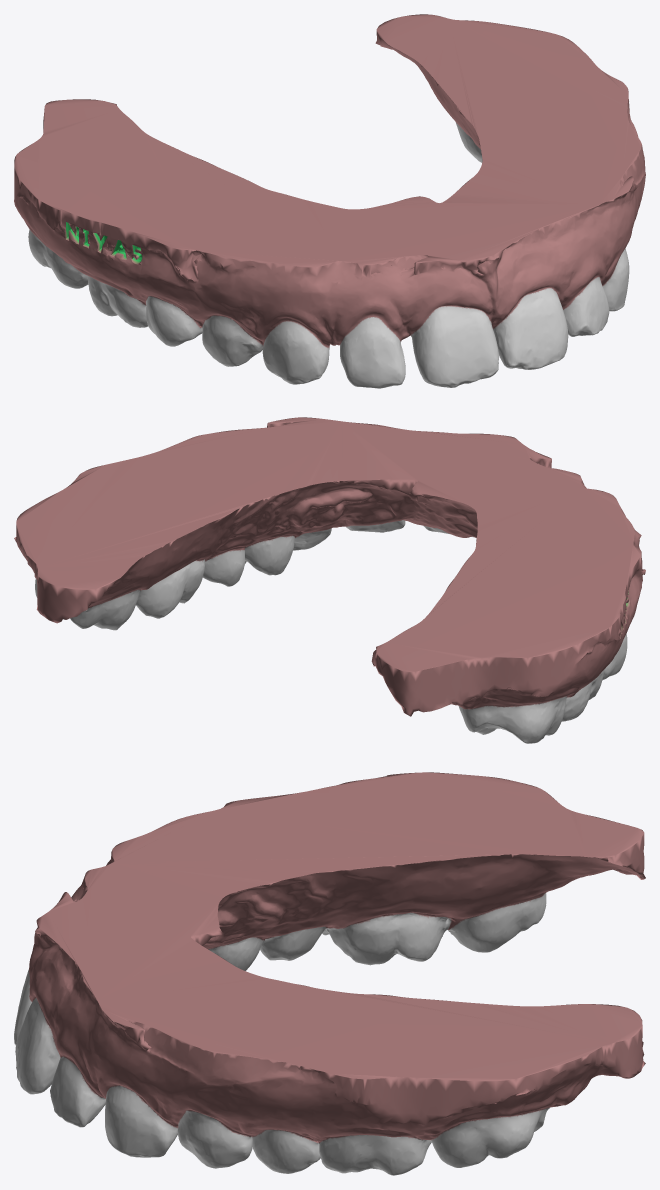
Rendered from Niya Priority Upper jaw - 05 - Model.glb.
The picture shows the model from 3 angles, top to bottom: view 1: azimuth 30°, elevation 25°; view 2: azimuth 150°, elevation 25°; view 3: azimuth 270°, elevation 25°; orthographic projection. The views are drawn at different scales.
Parts seen in each view (by area): view 1: Niya Priority Upper jaw - 05 - Model; view 2: Niya Priority Upper jaw - 05 - Model; view 3: Niya Priority Upper jaw - 05 - Model.
Part boxes in pixels (x1,y1,x2,y2): Niya Priority Upper jaw - 05 - Model: (14, 14, 645, 388); Niya Priority Upper jaw - 05 - Model: (14, 417, 645, 743); Niya Priority Upper jaw - 05 - Model: (14, 772, 645, 1175).
Size of the model in its own units: 66.36 by 13.7 by 57.32.
